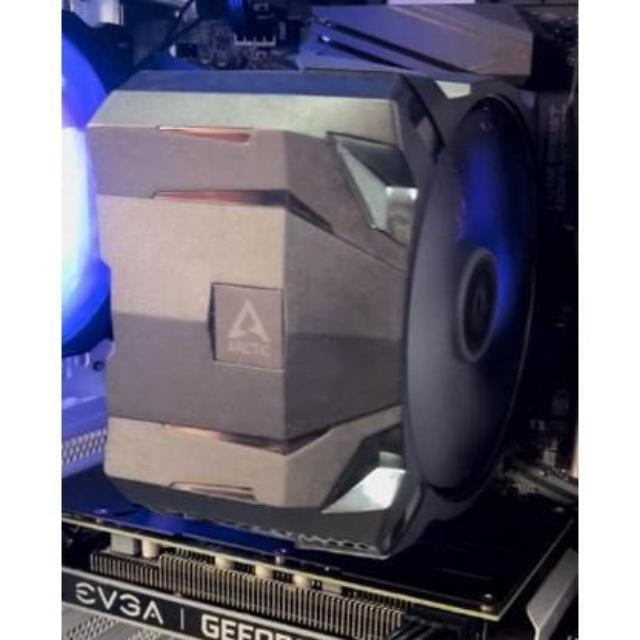CPU_Fan: (84, 60, 536, 562)
